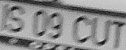0: (31, 8, 48, 37)
9: (49, 12, 64, 41)
C: (72, 14, 92, 46)
I: (1, 3, 10, 36)
S: (9, 4, 26, 35)
T: (110, 19, 125, 50)
U: (92, 15, 111, 48)
